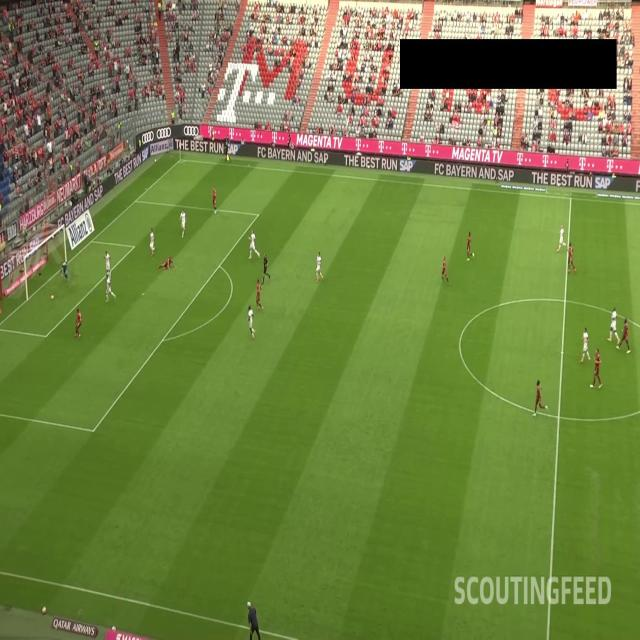ball: (50, 292, 55, 302)
player: (606, 304, 622, 346), (532, 377, 548, 417), (617, 316, 631, 354), (590, 346, 602, 389), (103, 273, 118, 304), (580, 325, 592, 363), (248, 228, 261, 262), (566, 240, 578, 274), (245, 304, 256, 340), (254, 278, 265, 312), (464, 229, 475, 263), (102, 247, 112, 284), (73, 306, 84, 339), (556, 224, 568, 253), (209, 184, 219, 217), (314, 250, 324, 282), (178, 208, 188, 239), (440, 254, 450, 285), (156, 257, 178, 271), (59, 260, 71, 283), (149, 227, 156, 258)
referee: (261, 252, 271, 286), (224, 140, 232, 167)
